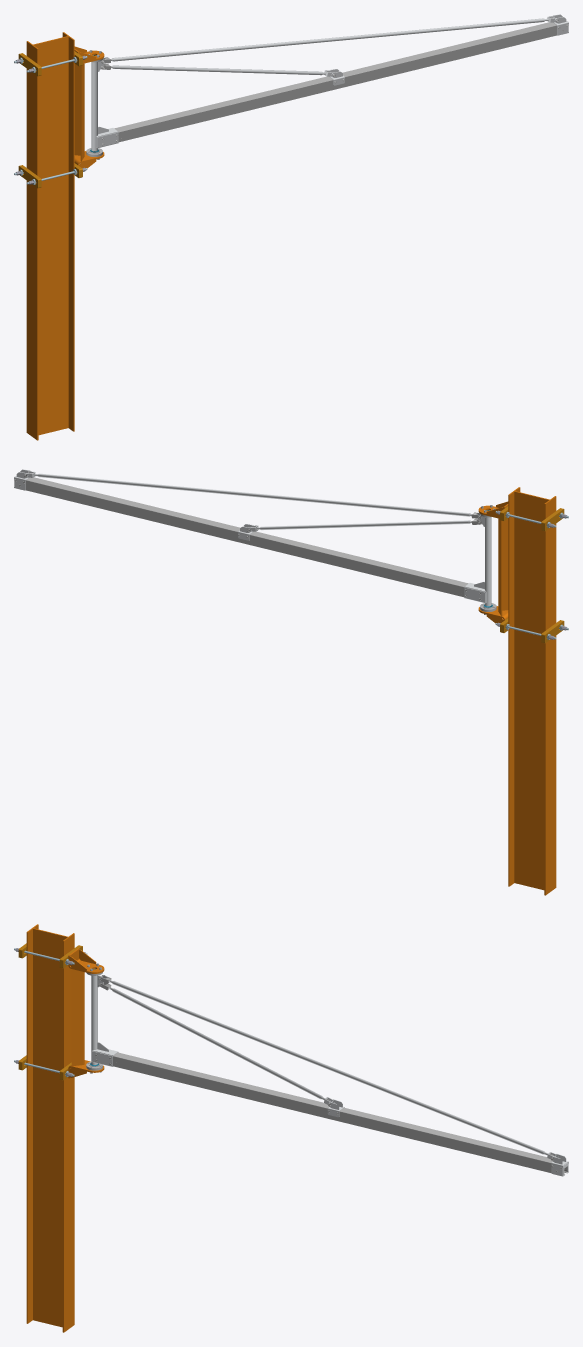
File: aardwolf_all_part_WALL BRACED JIB CRANE 5M 250KG.fbx
The picture shows the model from 3 angles, top to bottom: view 1: azimuth 30°, elevation 25°; view 2: azimuth 150°, elevation 25°; view 3: azimuth 330°, elevation 25°; orthographic projection.
Parts seen in each view (by area): view 1: Solid20, aardwolf_all_part_obj018, Solid1, aardwolf_all_part_obj017; view 2: Solid20, aardwolf_all_part_obj018, Solid1, aardwolf_all_part_obj017; view 3: Solid20, aardwolf_all_part_obj018, Solid1, aardwolf_all_part_obj017.
Part boxes in pixels (box(x1,y1,x2,y2)): Solid20: box(26, 32, 74, 440); aardwolf_all_part_obj018: box(86, 14, 568, 159); Solid1: box(74, 63, 84, 161); aardwolf_all_part_obj017: box(91, 62, 97, 151); Solid20: box(508, 487, 556, 895); aardwolf_all_part_obj018: box(14, 469, 496, 614); Solid1: box(498, 518, 508, 616); aardwolf_all_part_obj017: box(485, 517, 491, 606); Solid20: box(26, 924, 74, 1332); aardwolf_all_part_obj018: box(86, 963, 568, 1176); Solid1: box(71, 969, 84, 1066); aardwolf_all_part_obj017: box(91, 975, 97, 1064).
Bounding box in the file's own units: 5830 × 4000 × 360.
